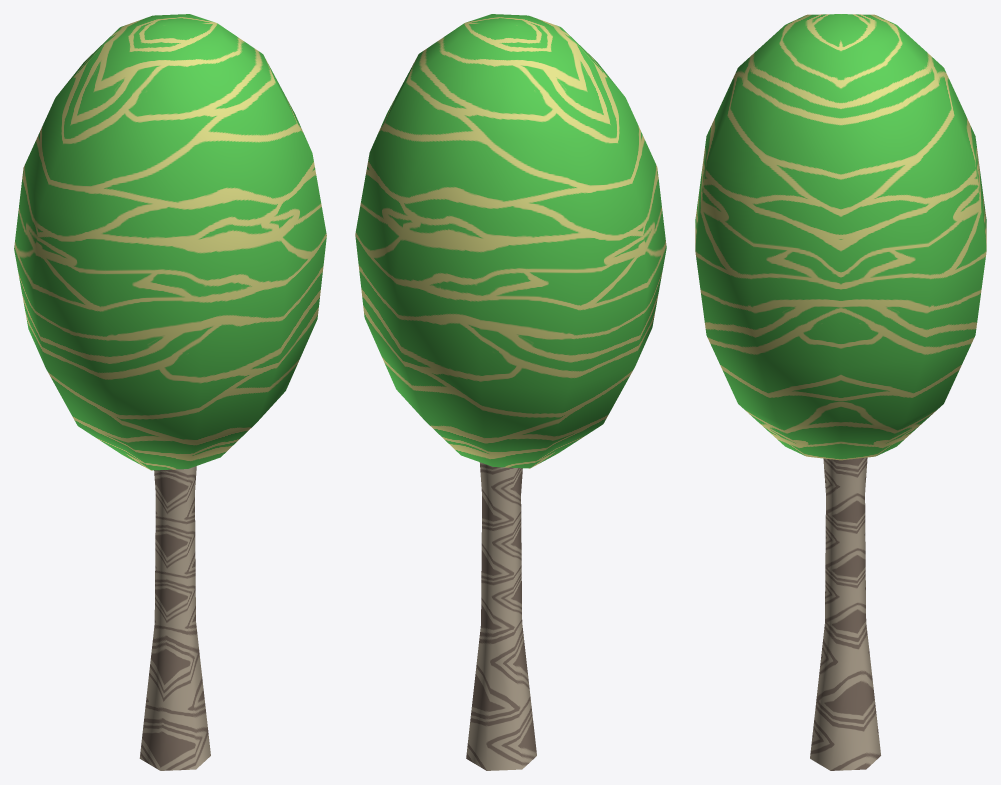
The model's file is S_Tree_C.fbx.
3 views of the same model, side by side, from view 1: azimuth 30°, elevation 25°; view 2: azimuth 150°, elevation 25°; view 3: azimuth 270°, elevation 25° (orthographic).
Visible parts, largest first — view 1: S_Tree_C_m; view 2: S_Tree_C_m; view 3: S_Tree_C_m.
Part boxes in pixels (<box>): S_Tree_C_m: <box>14,14,326,770</box>; S_Tree_C_m: <box>355,14,666,770</box>; S_Tree_C_m: <box>695,14,986,770</box>.
Bounding box in the file's own units: 19.91 × 50.92 × 18.24.
